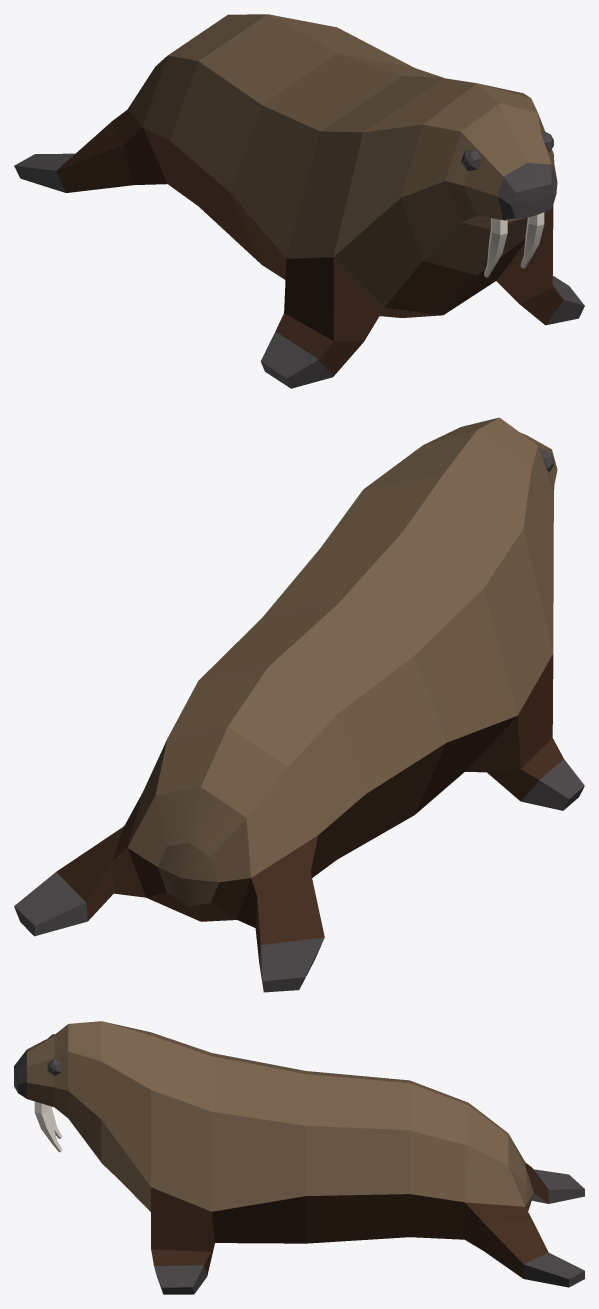
File: Mesh_Walrus.obj
3 renders of one model, top to bottom at view 1: azimuth 30°, elevation 25°; view 2: azimuth 150°, elevation 25°; view 3: azimuth 270°, elevation 25°, orthographic. The views are drawn at different scales.
Parts seen in each view (by area): view 1: Geo_Walrus; view 2: Geo_Walrus; view 3: Geo_Walrus.
Part boxes in pixels (left/top/right/bottom): Geo_Walrus: left=14, top=14, right=584, bottom=388; Geo_Walrus: left=14, top=417, right=584, bottom=992; Geo_Walrus: left=14, top=1021, right=584, bottom=1294.
Bounding box in the file's own units: 132 × 123 × 288.
1 material, 1 textured.
